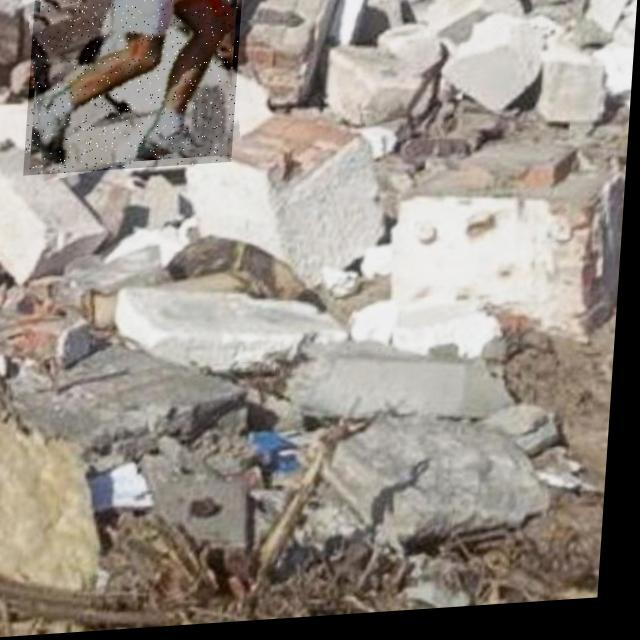Person in Rubble: (26, 0, 243, 176)
